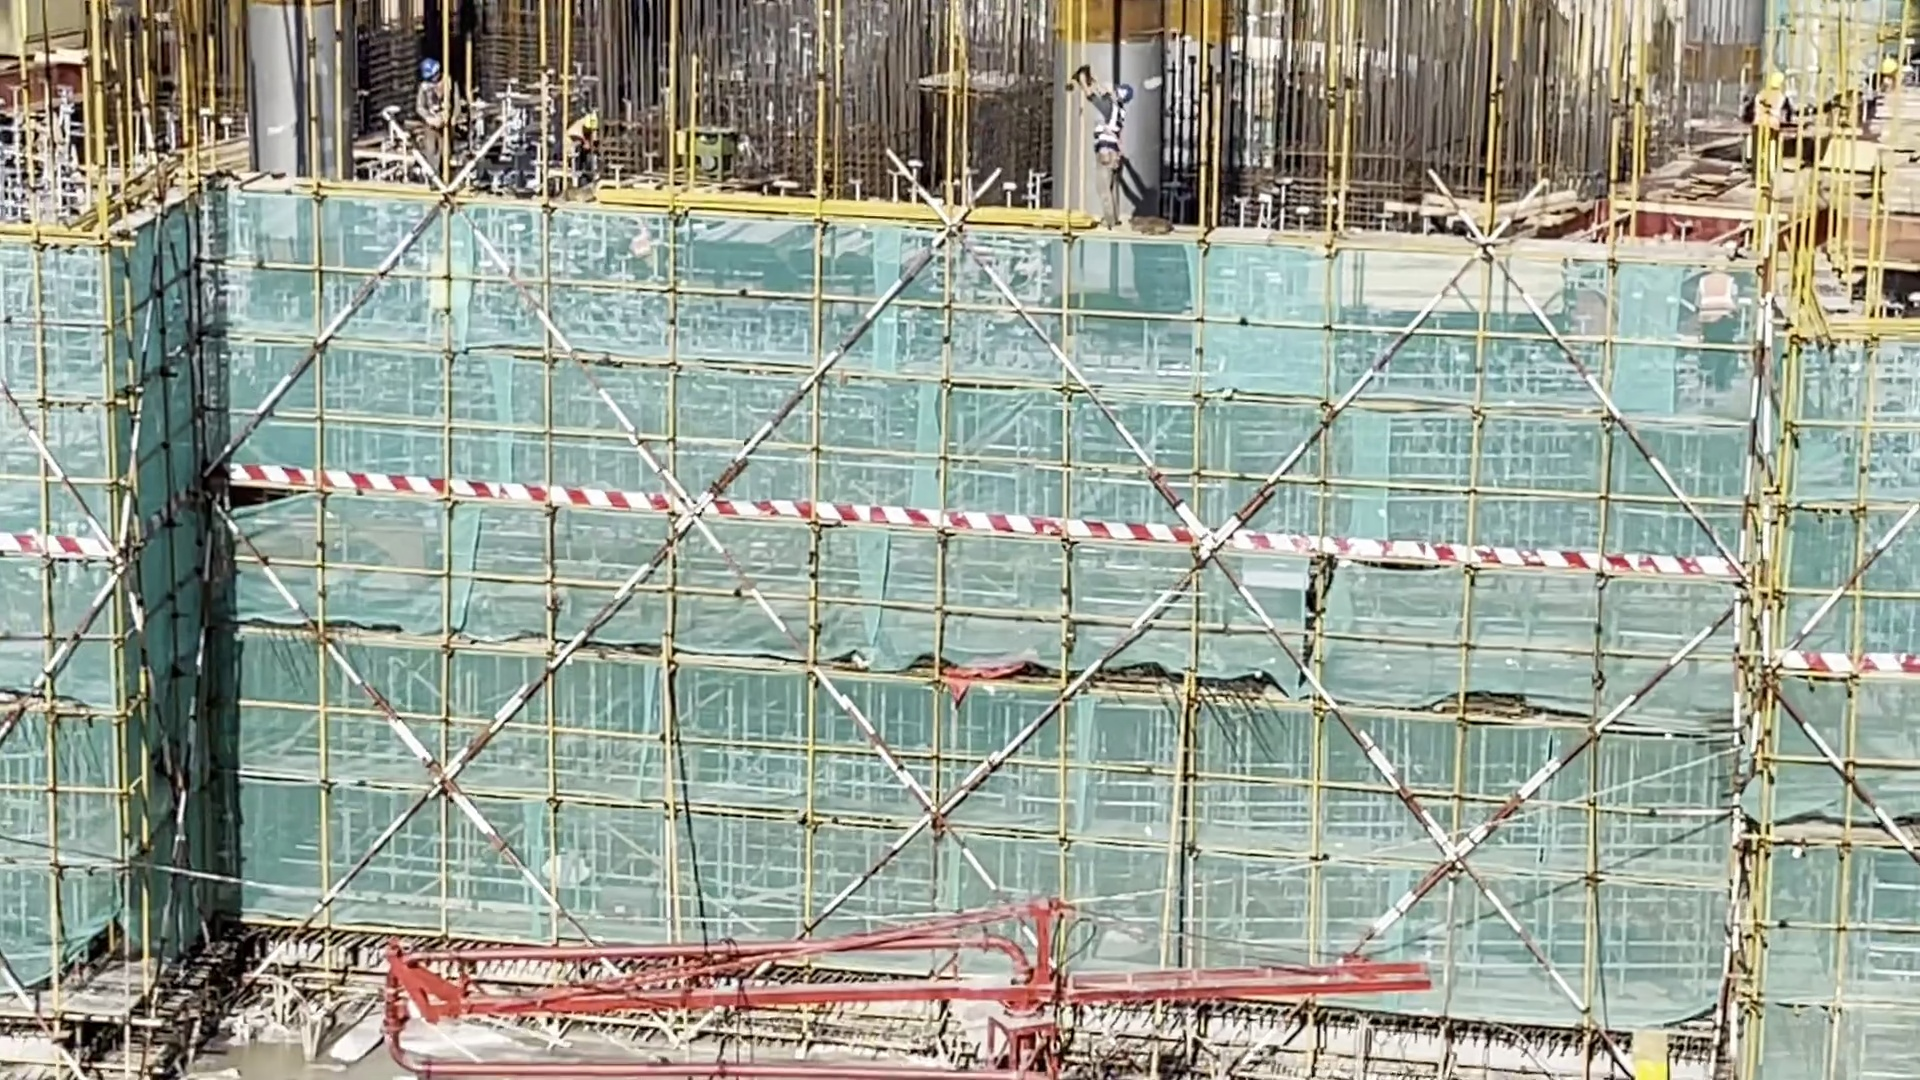board: (1860, 63, 1920, 212)
helmet: (1114, 76, 1136, 107), (414, 61, 434, 84), (557, 139, 581, 157), (1770, 70, 1793, 88), (1884, 60, 1903, 76)
person: (1076, 75, 1131, 230), (411, 63, 468, 186), (1766, 51, 1798, 185), (564, 106, 611, 191), (1869, 43, 1909, 126)
vest: (413, 84, 459, 121), (1093, 114, 1121, 174), (1743, 96, 1806, 117), (571, 117, 594, 150), (1864, 81, 1908, 89)
